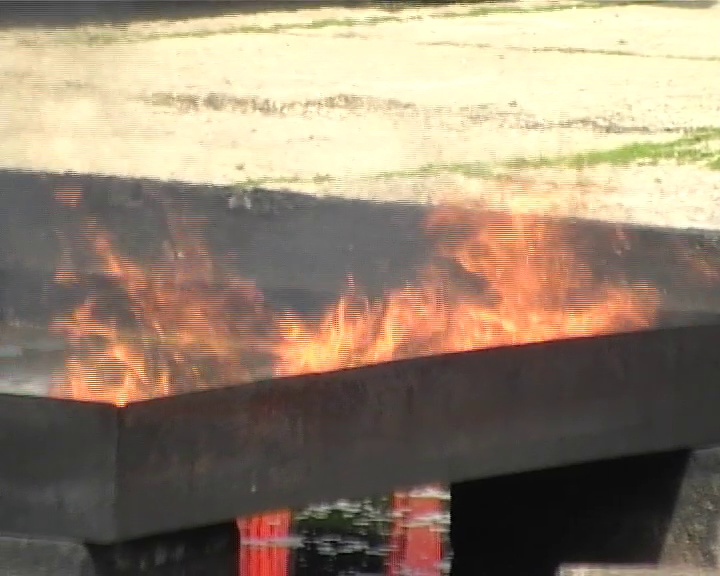fire: (45, 225, 660, 398)
